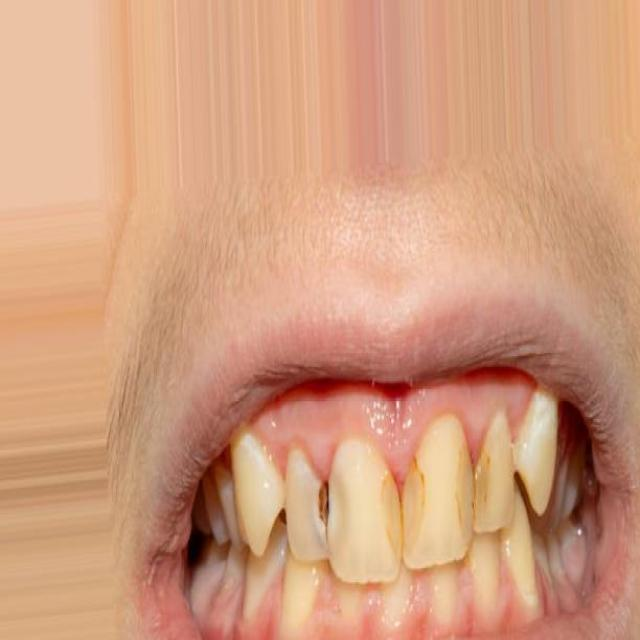caries: (373, 454, 432, 554), (444, 446, 494, 546), (306, 467, 350, 544)
